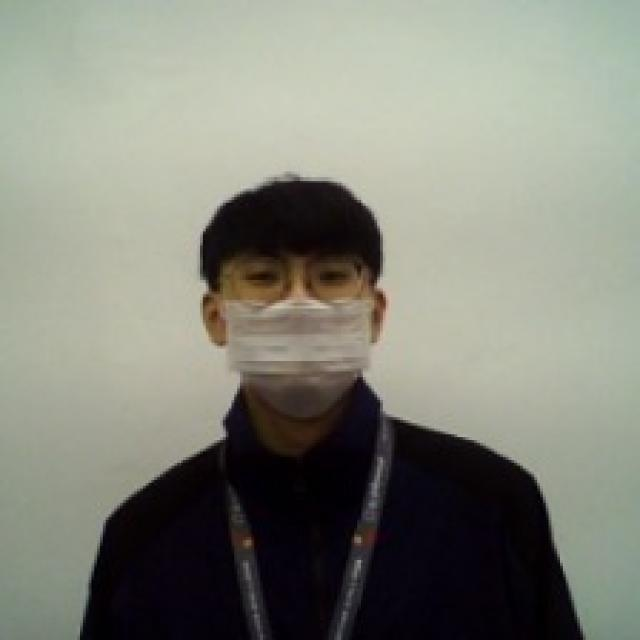mask: (207, 280, 389, 426)
no_gloves: (191, 166, 392, 295)
